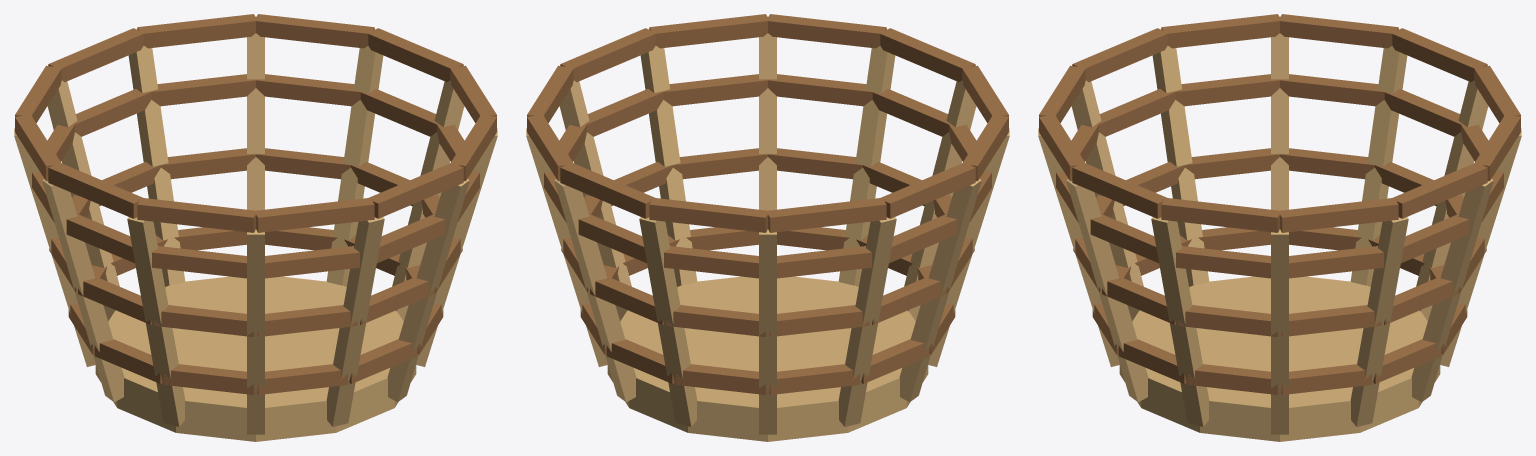
Rendered from TR3_Basket_Woven.glb.
The picture shows the model from 3 angles, left to right: view 1: azimuth 30°, elevation 25°; view 2: azimuth 150°, elevation 25°; view 3: azimuth 270°, elevation 25°; orthographic projection.
Parts seen in each view (by area): view 1: TR3_Basket_Woven; view 2: TR3_Basket_Woven; view 3: TR3_Basket_Woven.
Boxes of the visible parts, x1,y1,x2,y2 form: TR3_Basket_Woven: [14, 14, 497, 441]; TR3_Basket_Woven: [526, 14, 1009, 441]; TR3_Basket_Woven: [1038, 14, 1521, 441].
Bounding box in the file's own units: 0.664 × 0.3915 × 0.664.
